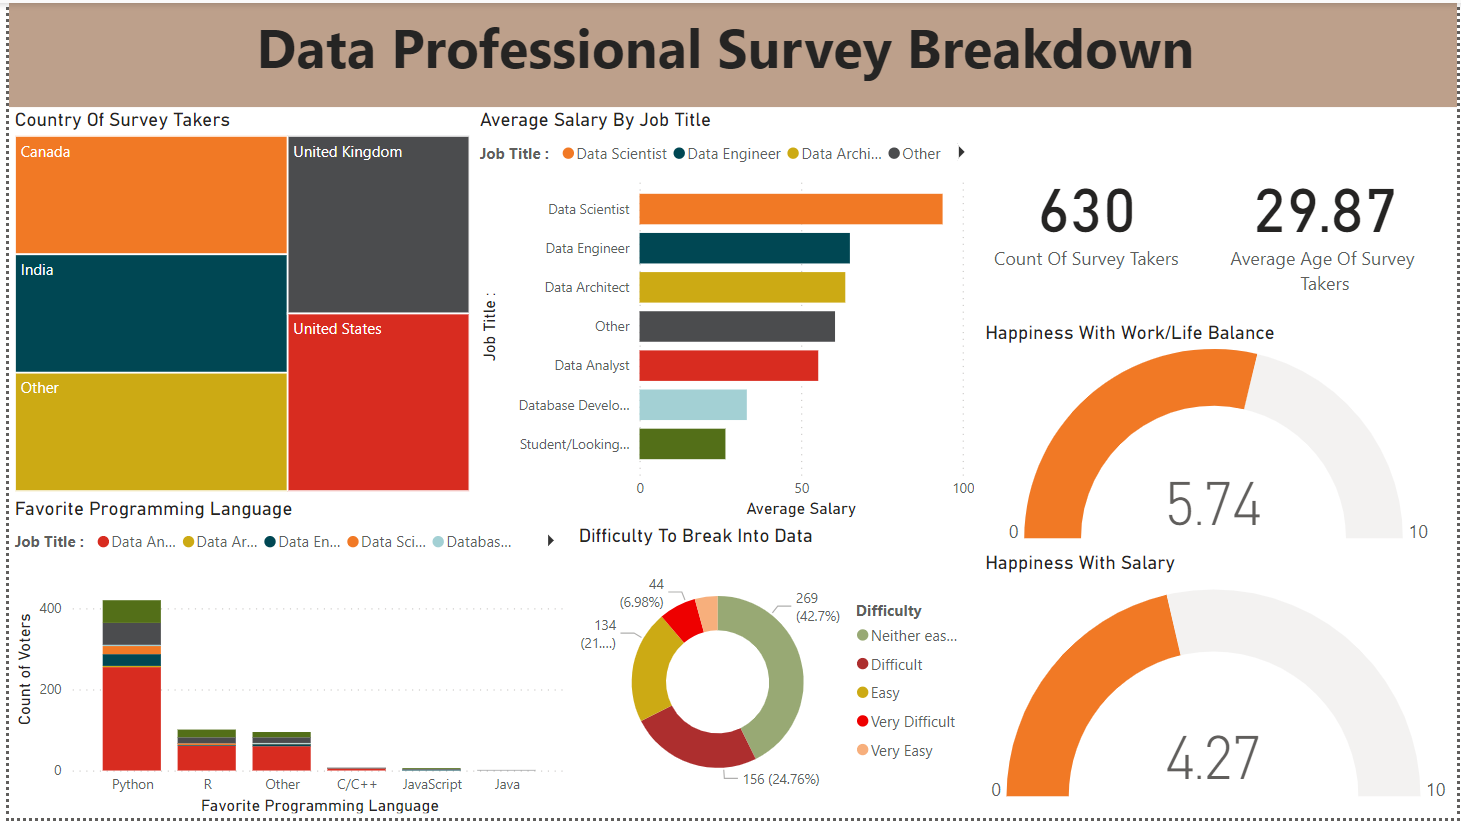

What the dashboard file says about the page in this screenshot:
{"tool":"powerbi","page":{"name":"Page 1","canvas":[1280,720],"ordinal":0},"visuals":[{"type":"textbox","box":[0,0,1280,91.8],"z":0},{"type":"card","fields":{"Values":["Avg(Data Professional Survey.Q10 - Current Age)"]},"box":[1046.7,93.3,233.3,188.3],"z":1000},{"type":"barChart","title":"Average Salary By Job Title","fields":{"Category":["Data Professional Survey.Q1 - Which Title Best Fits your Current Role?.1"],"Y":["Avg(Data Professional Survey.Average Salary)"],"Series":["Data Professional Survey.Q1 - Which Title Best Fits your Current Role?.1"]},"box":[411.7,93.3,446.7,366.7],"z":2000},{"type":"columnChart","title":"Favorite Programming Language","fields":{"Category":["Data Professional Survey.Q5 - Favorite Programming Language.1"],"Y":["CountNonNull(Data Professional Survey.Unique ID)"],"Series":["Data Professional Survey.Q1 - Which Title Best Fits your Current Role?.1"]},"box":[0,435.8,498.1,284.9],"z":3000},{"type":"treemap","title":"Country Of Survey Takers","fields":{"Group":["Data Professional Survey.Q11 - Which Country do you live in?.1"],"Values":["Count(Data Professional Survey.Q11 - Which Country do you live in?.1)"]},"box":[0,93.3,411.7,343.3],"z":4000},{"type":"gauge","title":"Happiness With Work/Life Balance","fields":{"Y":["Avg(Data Professional Survey.Q6 - How Happy are you in your Current Position with the following? (Work/Life Balance))"],"MinValue":["Min(Data Professional Survey.Q6 - How Happy are you in your Current Position with the following? (Work/Life Balance))1"],"MaxValue":["Max(Data Professional Survey.Q6 - How Happy are you in your Current Position with the following? (Work/Life Balance))2"]},"box":[858.3,281.7,421.7,201.7],"z":5000},{"type":"gauge","title":"Happiness With Salary ","fields":{"Y":["Avg(Data Professional Survey.Q6 - How Happy are you in your Current Position with the following? (Salary))"],"MinValue":["Min(Data Professional Survey.Q6 - How Happy are you in your Current Position with the following? (Salary))"],"MaxValue":["Max(Data Professional Survey.Q6 - How Happy are you in your Current Position with the following? (Salary))"]},"box":[858.3,483.3,421.7,236.7],"z":6000},{"type":"donutChart","title":"Difficulty To Break Into Data","fields":{"Category":["Data Professional Survey.Q7 - How difficult was it for you to break into Data?"],"Y":["CountNonNull(Data Professional Survey.Q7 - How difficult was it for you to break into Data?)"]},"box":[498.3,460,360,260],"z":7000},{"type":"card","fields":{"Values":["Count(Data Professional Survey.Unique ID)"]},"box":[858.3,93.3,188.3,188.3],"z":9000}]}

Visuals, with their boxes in screenshot pixels (x1, y1, x2, y2), scaled from the page's 1280x720 canvas onto the 1461x826 screenshot:
textbox: pyautogui.locateOnScreen(0, 0, 1460, 105)
card - Avg(Data Professional Survey.Q10 - Current Age): pyautogui.locateOnScreen(1195, 107, 1460, 323)
"Average Salary By Job Title" barChart: pyautogui.locateOnScreen(470, 107, 980, 528)
"Favorite Programming Language" columnChart: pyautogui.locateOnScreen(0, 500, 569, 825)
"Country Of Survey Takers" treemap: pyautogui.locateOnScreen(0, 107, 470, 501)
"Happiness With Work/Life Balance" gauge: pyautogui.locateOnScreen(980, 323, 1460, 555)
"Happiness With Salary " gauge: pyautogui.locateOnScreen(980, 554, 1460, 825)
"Difficulty To Break Into Data" donutChart: pyautogui.locateOnScreen(569, 528, 980, 825)
card - Count(Data Professional Survey.Unique ID): pyautogui.locateOnScreen(980, 107, 1195, 323)
